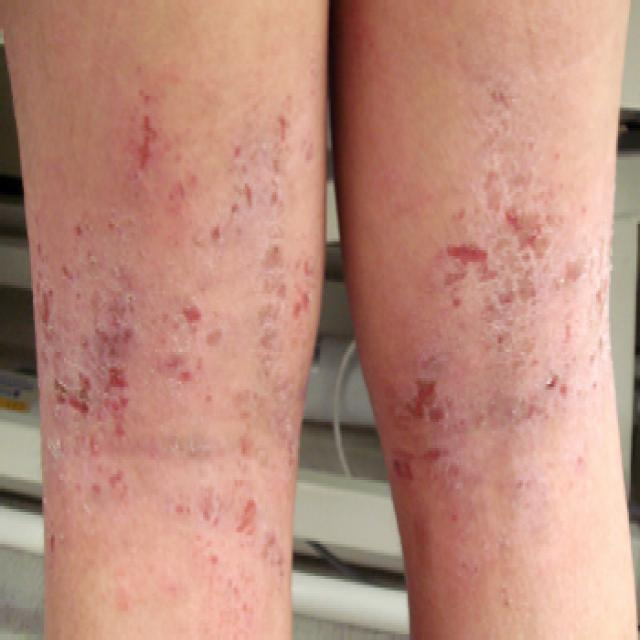eczema: (33, 65, 279, 551), (372, 94, 580, 500)
